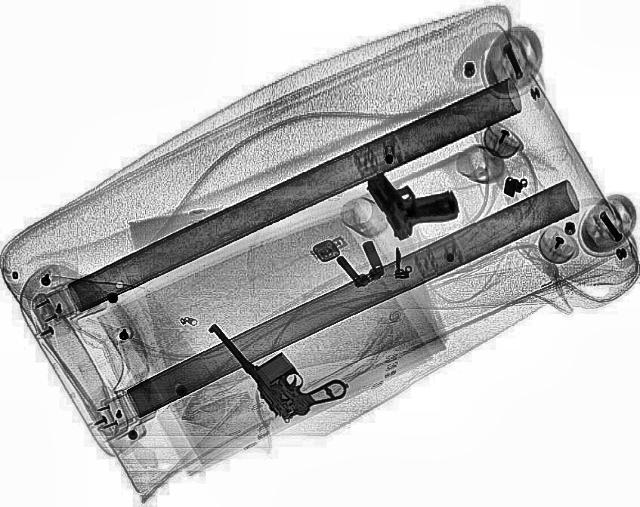Gun: (202, 296, 354, 426), (359, 156, 466, 240)
